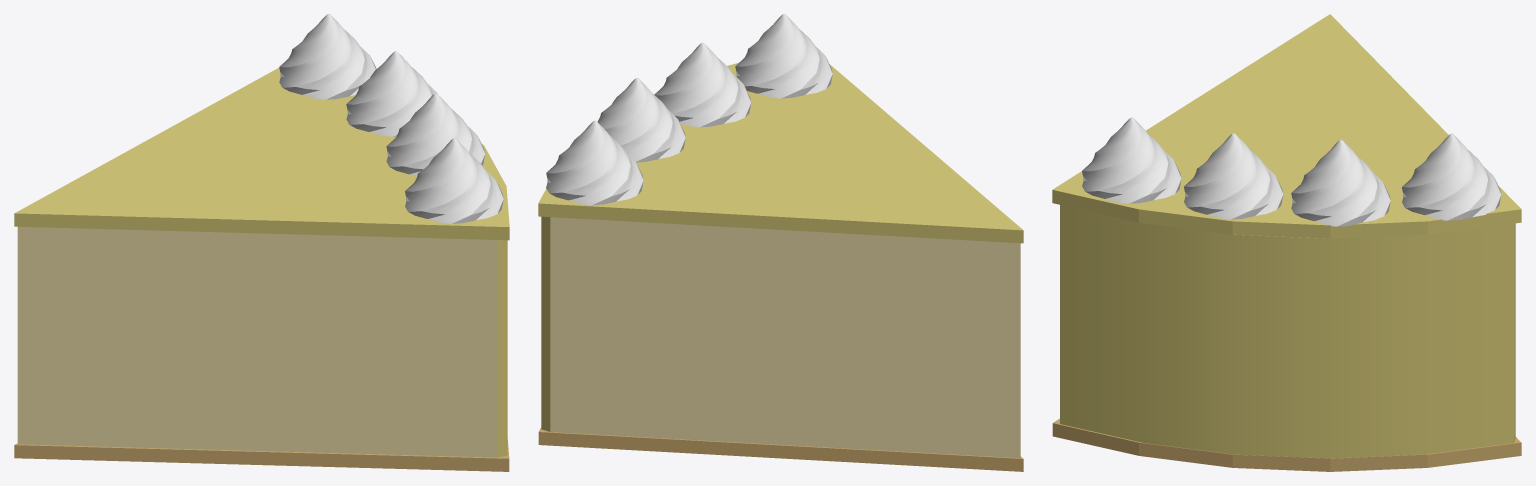
The model's file is cake.fbx.
The picture shows the model from 3 angles, left to right: view 1: azimuth 30°, elevation 25°; view 2: azimuth 150°, elevation 25°; view 3: azimuth 270°, elevation 25°; orthographic projection. The views are drawn at different scales.
Parts seen in each view (by area): view 1: body, upperplane, downplane, whippedcream.003, whippedcream, whippedcream.001, whippedcream.002, sideplane; view 2: body, upperplane, downplane, whippedcream, whippedcream.003, whippedcream.002, whippedcream.001, sideplane; view 3: sideplane, upperplane, downplane, whippedcream, whippedcream.001, whippedcream.003, whippedcream.002.
Part boxes in pixels (box(x1,y1,x2,y2)): body: box(17, 226, 497, 457); upperplane: box(14, 68, 509, 240); downplane: box(14, 439, 509, 471); whippedcream.003: box(405, 138, 503, 223); whippedcream: box(279, 14, 376, 99); whippedcream.001: box(346, 51, 437, 136); whippedcream.002: box(386, 93, 485, 176); sideplane: box(497, 240, 507, 457); body: box(550, 217, 1020, 458); upperplane: box(538, 63, 1023, 243); downplane: box(538, 427, 1023, 471); whippedcream: box(546, 120, 643, 205); whippedcream.003: box(735, 14, 832, 98); whippedcream.002: box(654, 42, 751, 127); whippedcream.001: box(597, 78, 685, 162); sideplane: box(541, 216, 550, 431); sideplane: box(1060, 205, 1515, 458); upperplane: box(1052, 14, 1521, 238); downplane: box(1052, 418, 1521, 471); whippedcream: box(1402, 133, 1501, 220); whippedcream.001: box(1291, 139, 1390, 226); whippedcream.003: box(1082, 117, 1181, 203); whippedcream.002: box(1184, 133, 1283, 219).
Bounding box in the file's own units: 0.2592 × 0.2423 × 0.1769.
